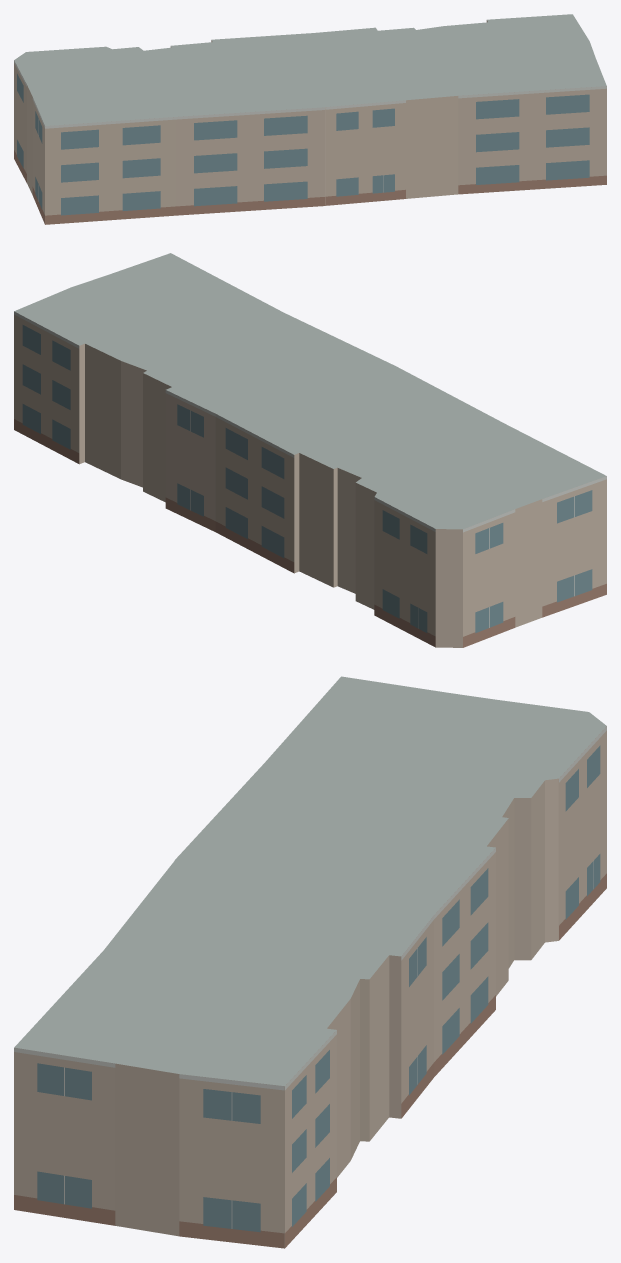
File: survey-upis-32466262.glb
3 views of the same model, one above another, from view 1: azimuth 30°, elevation 25°; view 2: azimuth 150°, elevation 25°; view 3: azimuth 270°, elevation 25° (orthographic). The views are drawn at different scales.
Visible parts, largest first — view 1: survey-upis-32466262.tmp; view 2: survey-upis-32466262.tmp; view 3: survey-upis-32466262.tmp.
Part boxes in pixels (left/top/right/bottom): survey-upis-32466262.tmp: left=14, top=14, right=606, bottom=224; survey-upis-32466262.tmp: left=14, top=253, right=606, bottom=647; survey-upis-32466262.tmp: left=14, top=676, right=606, bottom=1248.
Size of the model in its own units: 49.55 by 9.15 by 30.3.
